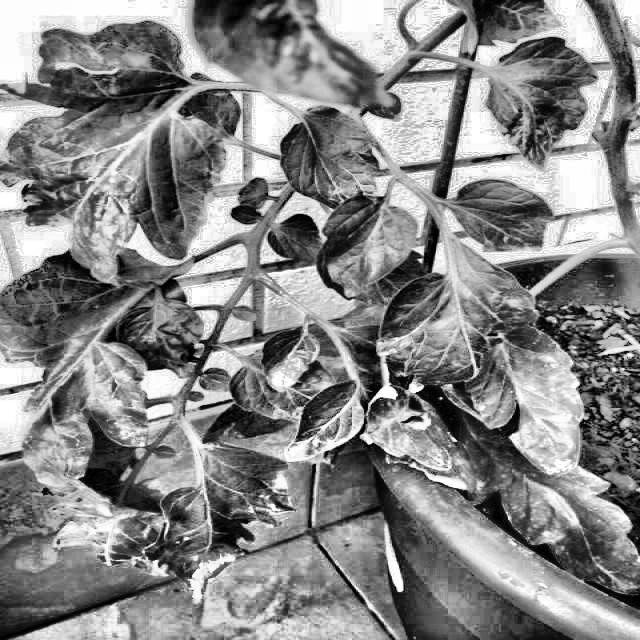plants: (8, 16, 631, 602)
